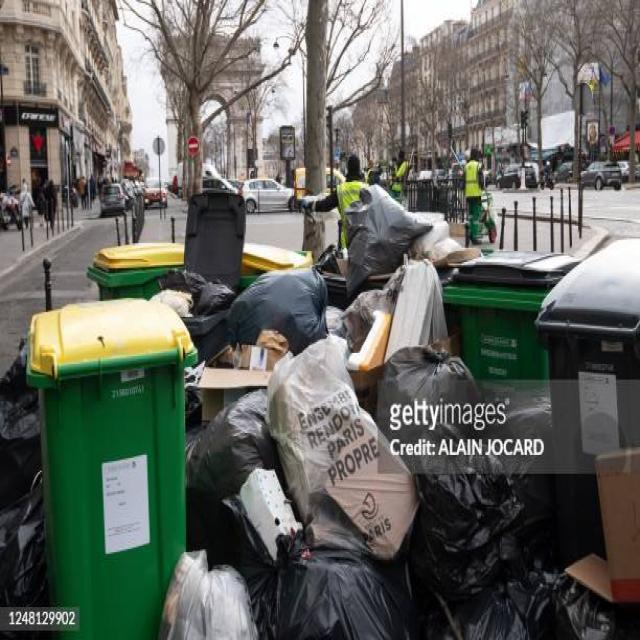cardboard: (593, 457, 640, 602)
trash: (30, 170, 565, 610)
